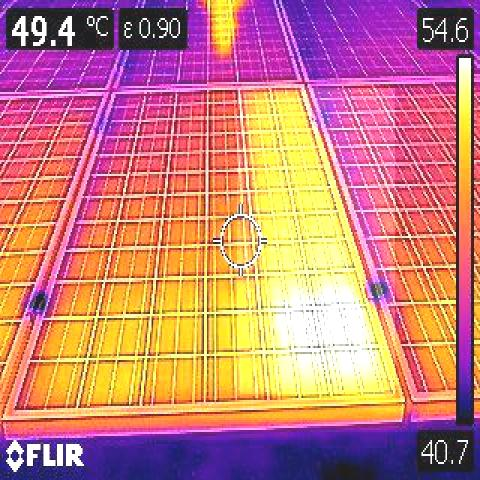fault: (237, 88, 395, 394)
